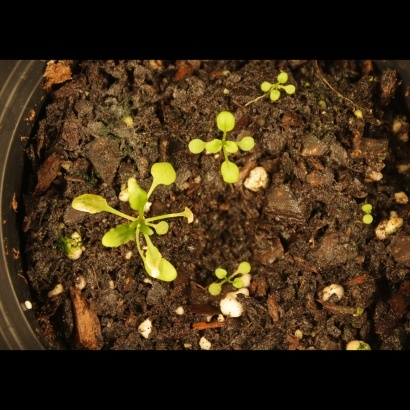leaf: (142, 241, 180, 288), (70, 187, 116, 219), (119, 174, 153, 214), (99, 221, 141, 251), (149, 154, 183, 188), (212, 106, 243, 135), (216, 160, 244, 189), (180, 132, 205, 159), (271, 61, 294, 84), (284, 83, 307, 106), (270, 92, 293, 115), (251, 77, 274, 100), (356, 190, 379, 213), (357, 213, 380, 236), (240, 135, 263, 158), (223, 137, 246, 160), (204, 135, 227, 158), (237, 253, 260, 276), (203, 282, 226, 305), (233, 277, 256, 300), (208, 261, 231, 284), (153, 216, 176, 239)
